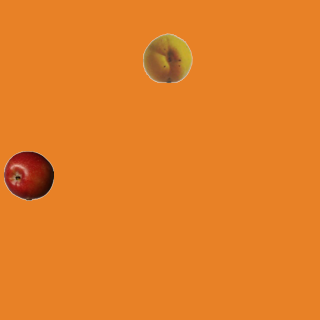Apple Braeburn: (3, 150, 53, 200)
Peach 2: (142, 32, 192, 82)
